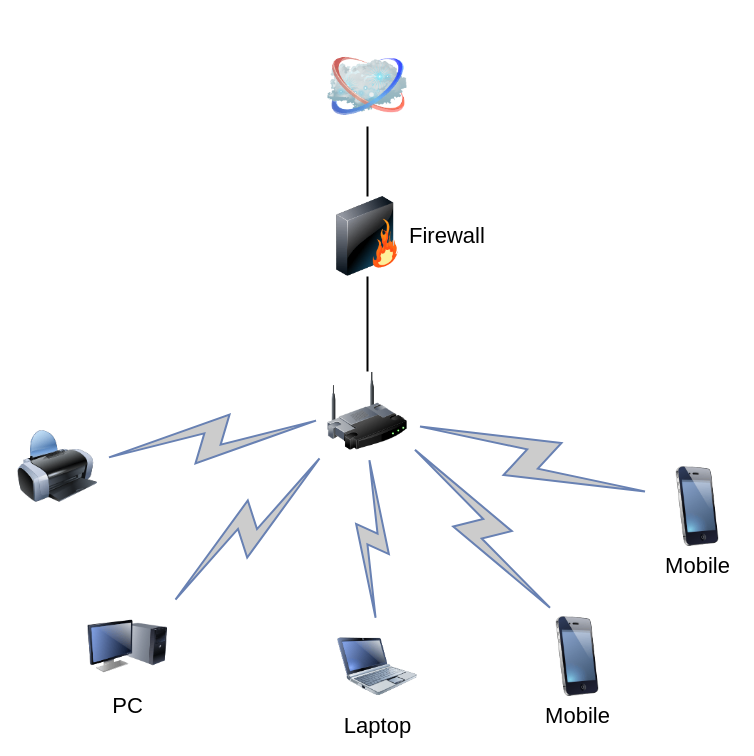
Image size: 754x756. Some labels were removed from this diagram. The shapes that lost their labels are listed below. From the top down, each one's centre as x and y in pixels, then its label:
At (x=367, y=86): "Internet".
At (x=57, y=466): "Printer".
